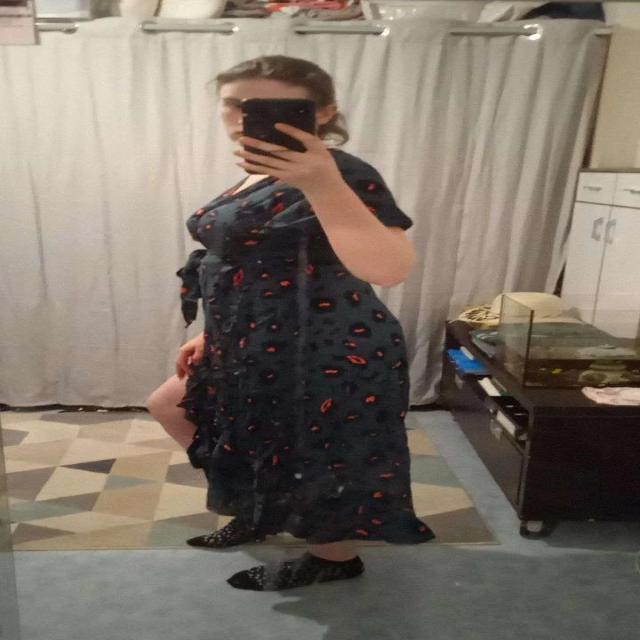clothes: (145, 146, 461, 569)
